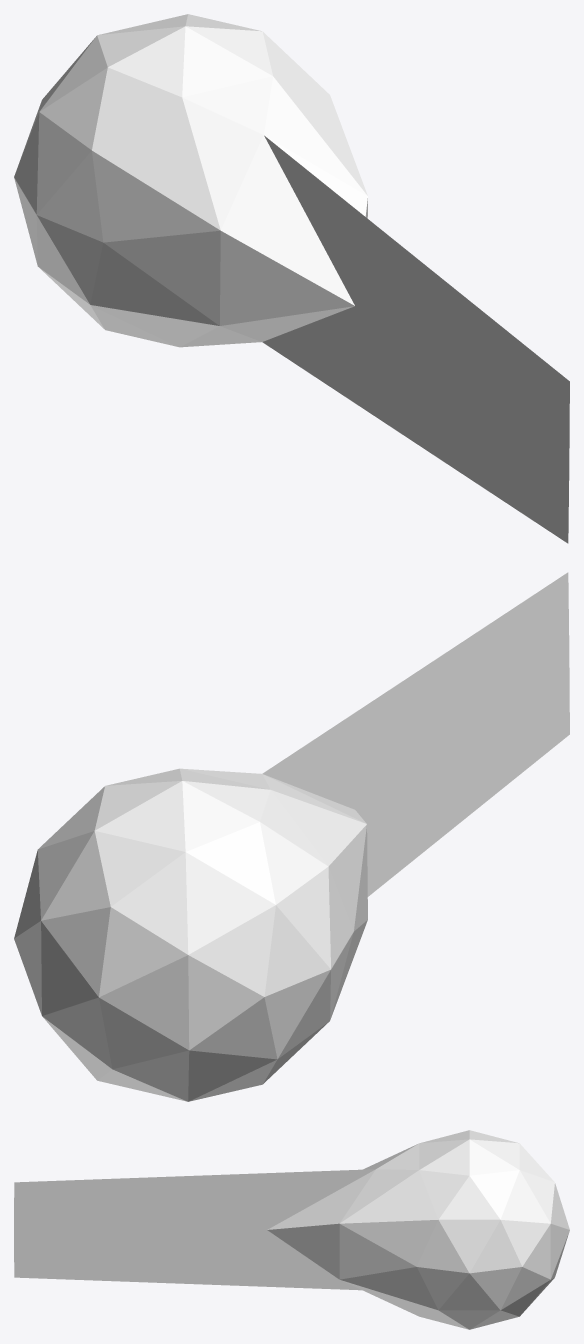
Rendered from Vomito.fbx.
The picture shows the model from 3 angles, top to bottom: view 1: azimuth 30°, elevation 25°; view 2: azimuth 150°, elevation 25°; view 3: azimuth 270°, elevation 25°; orthographic projection. The views are drawn at different scales.
Visible parts, largest first — view 1: Icosphere; view 2: Icosphere; view 3: Icosphere.
Part boxes in pixels (x1,y1,x2,y2): Icosphere: (14,14,569,543); Icosphere: (14,572,569,1101); Icosphere: (14,1130,569,1329).
Size of the model in its own units: 24.03 by 24.03 by 66.5.
